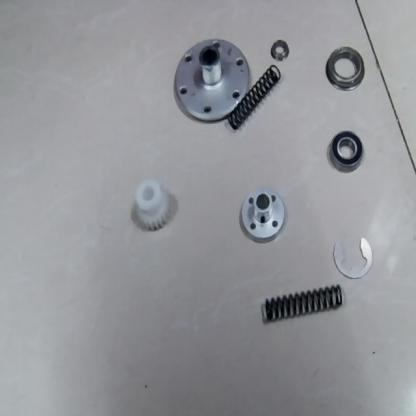FOD: (172, 38, 250, 124), (222, 64, 283, 134), (262, 285, 344, 325), (237, 186, 286, 246), (328, 233, 380, 281), (131, 176, 170, 236), (321, 48, 369, 91), (327, 129, 364, 174), (269, 36, 292, 64)
